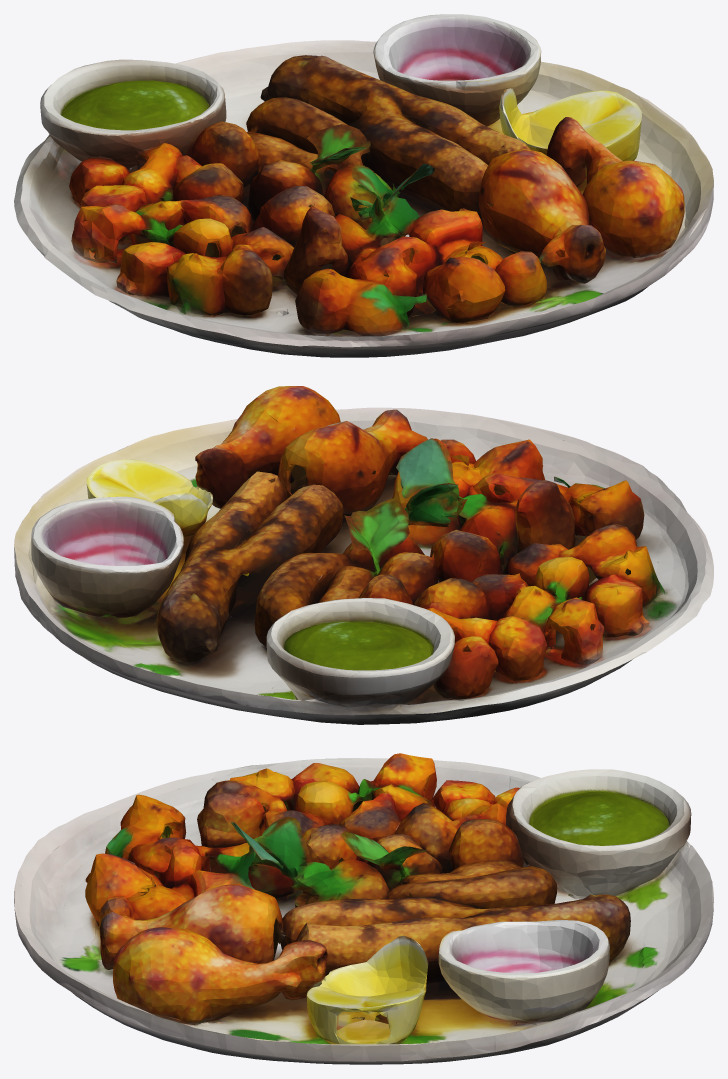
File: Signature Tandoori Platter.glb
3 renders of one model, top to bottom at view 1: azimuth 30°, elevation 25°; view 2: azimuth 150°, elevation 25°; view 3: azimuth 270°, elevation 25°, orthographic.
Visible parts, largest first — view 1: world; view 2: world; view 3: world.
Part boxes in pixels (x1,y1,x2,y2): world: [14, 14, 713, 357]; world: [14, 386, 713, 724]; world: [14, 753, 713, 1064].
Bounding box in the file's own units: 0.9983 × 0.1841 × 0.9959.
1 material, 1 textured.
